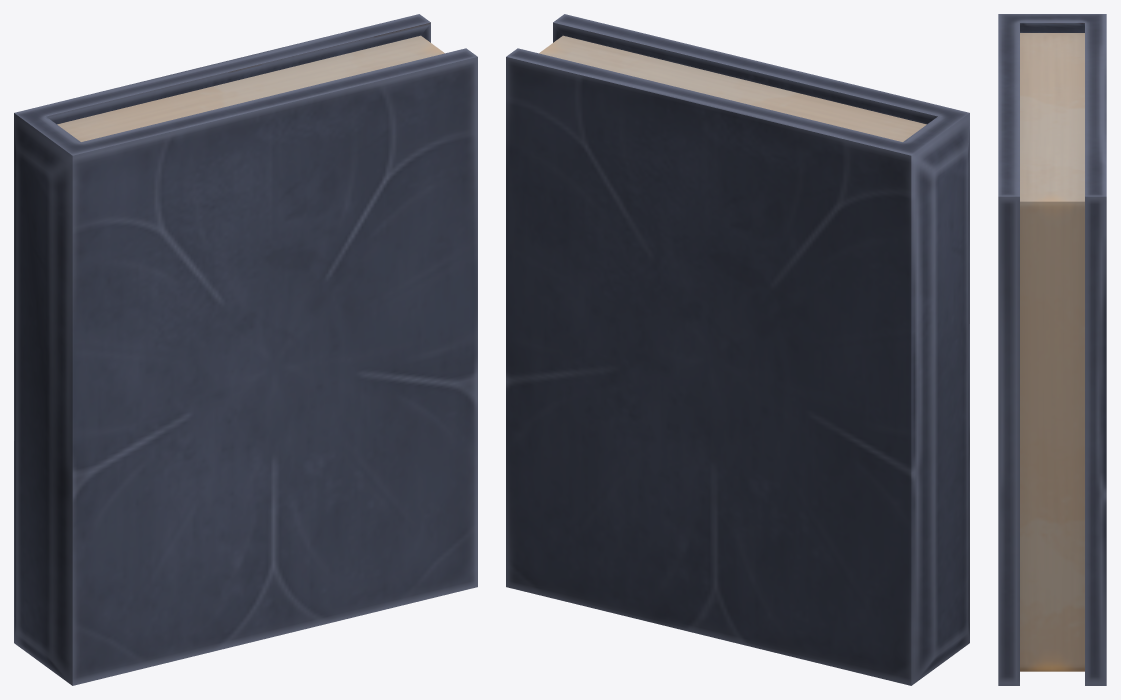
The model's file is SM_Book_C.fbx.
3 views of the same model, side by side, from view 1: azimuth 30°, elevation 25°; view 2: azimuth 150°, elevation 25°; view 3: azimuth 270°, elevation 25° (orthographic). The views are drawn at different scales.
Parts seen in each view (by area): view 1: SM_Book_C_LOD0; view 2: SM_Book_C_LOD0; view 3: SM_Book_C_LOD0.
Part boxes in pixels (x1,y1,x2,y2): SM_Book_C_LOD0: (14,14,477,685); SM_Book_C_LOD0: (506,14,969,685); SM_Book_C_LOD0: (998,14,1106,685).
Bounding box in the file's own units: 18.68 × 4.56 × 22.79.
Materials: 1 (1 with a texture image).
